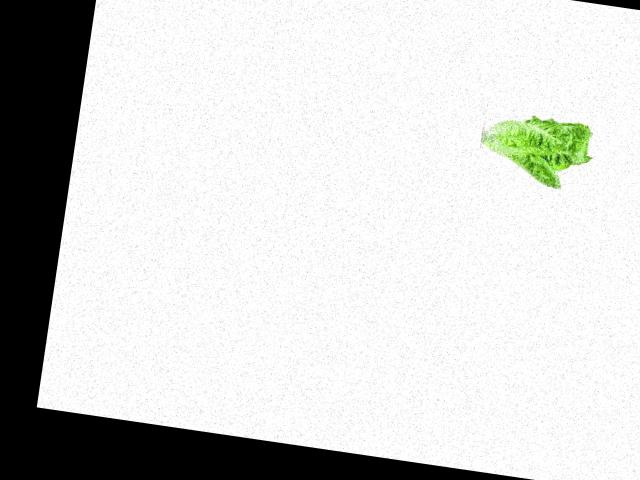lettuce: (480, 105, 598, 193)
